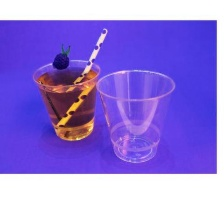drinking_straw: (61, 26, 109, 94)
glass: (93, 66, 176, 166), (32, 53, 103, 143)
